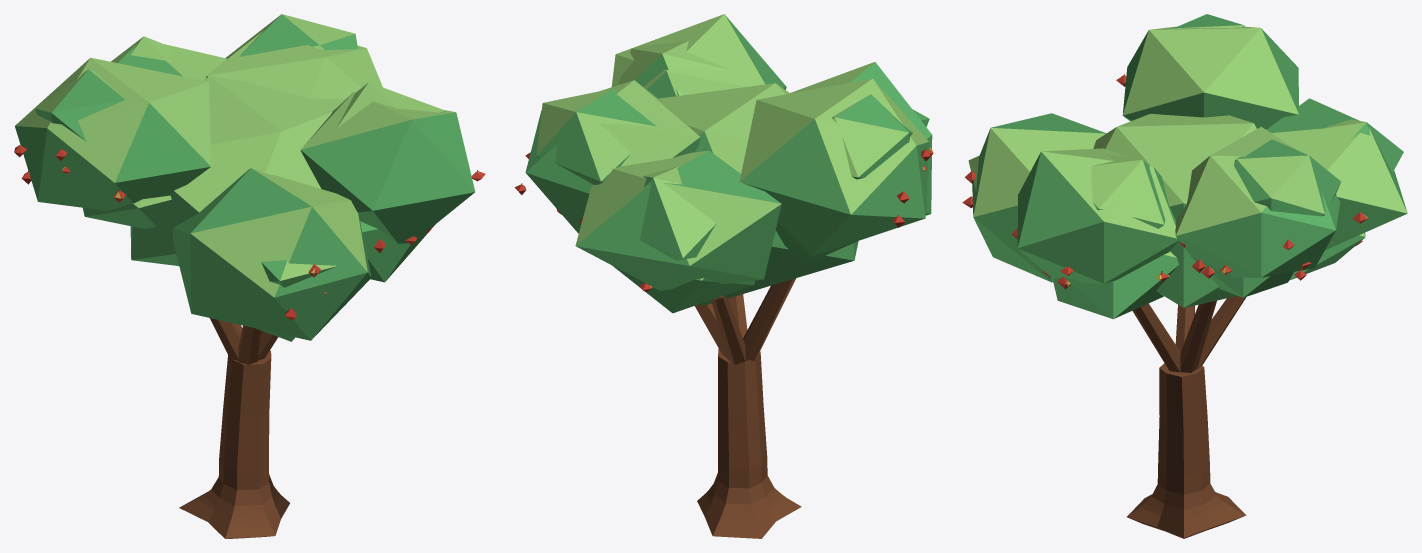
File: apple_tree_full.glb
3 views of the same model, side by side, from view 1: azimuth 30°, elevation 25°; view 2: azimuth 150°, elevation 25°; view 3: azimuth 270°, elevation 25° (orthographic). The views are drawn at different scales.
Visible parts, largest first — view 1: apple_tree_full.001; view 2: apple_tree_full.001; view 3: apple_tree_full.001.
Part boxes in pixels (x1,y1,x2,y2): apple_tree_full.001: (14, 14, 485, 538); apple_tree_full.001: (514, 14, 933, 538); apple_tree_full.001: (962, 14, 1407, 538).
Size of the model in its own units: 4.48 by 5.2 by 4.74.
